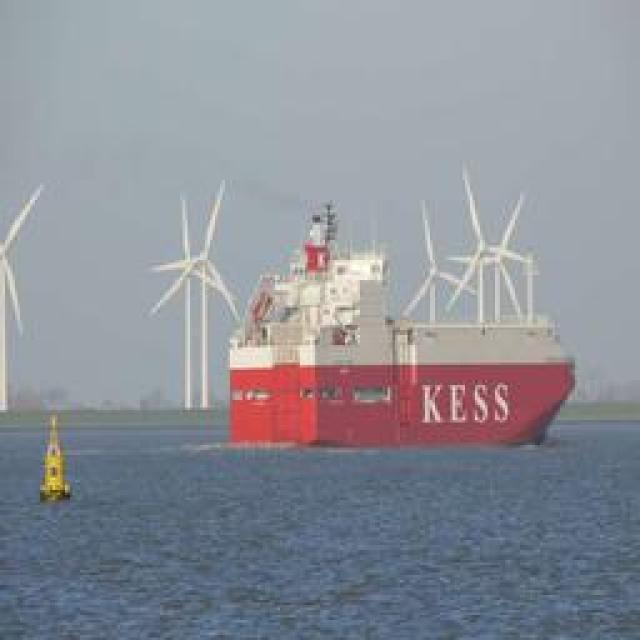ship2: (228, 204, 577, 451)
